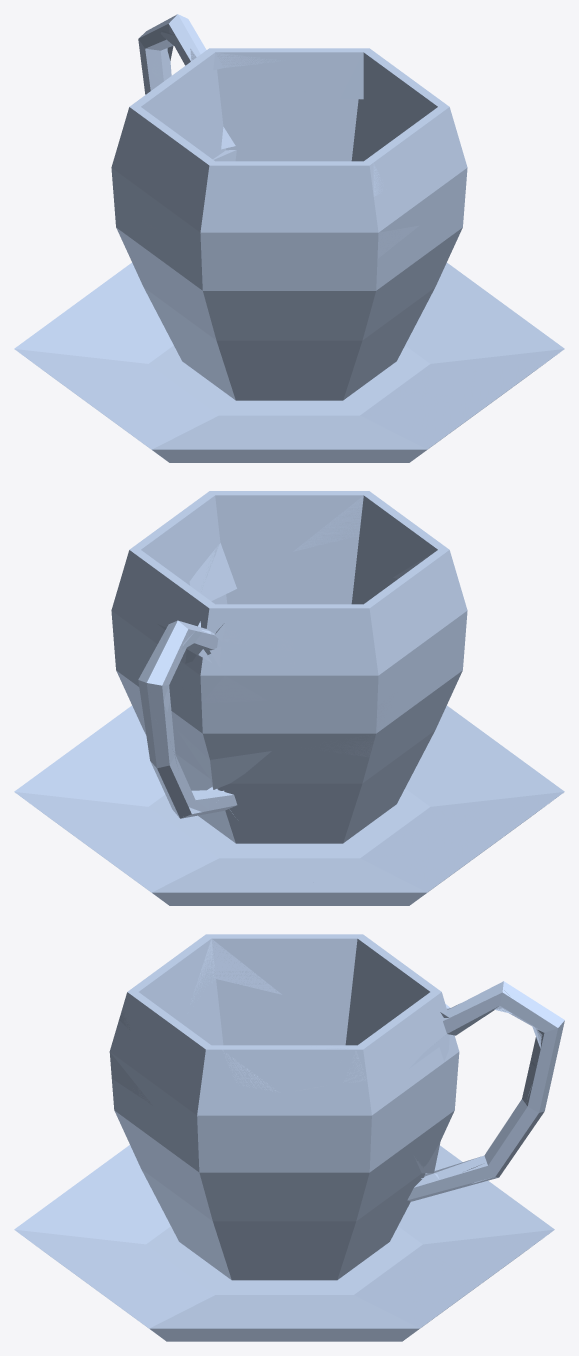
Rendered from shattered_teacup_and_dish.fbx.
The picture shows the model from 3 angles, top to bottom: view 1: azimuth 30°, elevation 25°; view 2: azimuth 150°, elevation 25°; view 3: azimuth 270°, elevation 25°; orthographic projection.
Visible parts, largest first — view 1: Cylinder.001, Cylinder, Cylinder.001_cell.027, Cylinder_cell.017, Cylinder_cell.016, Cylinder_cell.010, Cylinder_cell.008, Cylinder.001_cell.039, Cylinder_cell.015, Cylinder.001_cell.032, Cylinder_cell.014, Cylinder.001_cell.015 (+14 smaller); view 2: Cylinder.001, Cylinder, Cylinder_cell.016, Cylinder_cell.017, Cylinder.001_cell.036, Cylinder_cell.013, Cylinder.001_cell.026, Cylinder_cell.010, Cylinder.001_cell.029, Cylinder.001_cell.014, Cylinder_cell.008, Cylinder_cell.012 (+18 smaller); view 3: Cylinder.001, Cylinder, Cylinder.001_cell.025, Cylinder.001_cell.038, Cylinder.001_cell.026, Cylinder.001_cell.031, Cylinder.001_cell.028, Cylinder_cell.015, Cylinder_cell.002, Cylinder_cell.004, Cylinder.001_cell.016, Cylinder.001_cell.018 (+11 smaller).
Boxes of the visible parts, bbox=[...] form: Cylinder.001: bbox=[112, 14, 467, 400]; Cylinder: bbox=[19, 262, 564, 462]; Cylinder.001_cell.027: bbox=[291, 186, 419, 259]; Cylinder_cell.017: bbox=[99, 309, 209, 396]; Cylinder_cell.016: bbox=[102, 383, 287, 436]; Cylinder_cell.010: bbox=[43, 299, 94, 403]; Cylinder_cell.008: bbox=[84, 399, 287, 462]; Cylinder.001_cell.039: bbox=[290, 257, 413, 313]; Cylinder_cell.015: bbox=[291, 383, 467, 436]; Cylinder.001_cell.032: bbox=[291, 288, 407, 364]; Cylinder_cell.014: bbox=[407, 309, 479, 394]; Cylinder.001_cell.015: bbox=[292, 138, 410, 210]; Cylinder.001: bbox=[113, 491, 465, 843]; Cylinder: bbox=[14, 705, 564, 905]; Cylinder_cell.016: bbox=[368, 749, 480, 839]; Cylinder_cell.017: bbox=[291, 826, 477, 886]; Cylinder.001_cell.036: bbox=[169, 682, 287, 756]; Cylinder_cell.013: bbox=[111, 827, 286, 883]; Cylinder.001_cell.026: bbox=[189, 542, 287, 601]; Cylinder_cell.010: bbox=[292, 853, 479, 905]; Cylinder.001_cell.029: bbox=[295, 627, 421, 702]; Cylinder.001_cell.014: bbox=[179, 491, 286, 574]; Cylinder_cell.008: bbox=[483, 742, 536, 841]; Cylinder_cell.012: bbox=[98, 749, 209, 839]; Cylinder.001: bbox=[110, 934, 564, 1280]; Cylinder: bbox=[14, 1145, 554, 1341]; Cylinder.001_cell.025: bbox=[287, 1071, 411, 1142]; Cylinder.001_cell.038: bbox=[157, 1120, 282, 1195]; Cylinder.001_cell.026: bbox=[154, 1070, 282, 1134]; Cylinder.001_cell.031: bbox=[164, 1159, 282, 1242]; Cylinder.001_cell.028: bbox=[186, 983, 281, 1033]; Cylinder_cell.015: bbox=[97, 1188, 166, 1275]; Cylinder_cell.002: bbox=[286, 1287, 464, 1335]; Cylinder_cell.004: bbox=[83, 1279, 281, 1340]; Cylinder.001_cell.016: bbox=[169, 934, 281, 1004]; Cylinder.001_cell.018: bbox=[288, 1223, 375, 1279].
Size of the model in its own units: 23.42 by 12.86 by 19.92.
